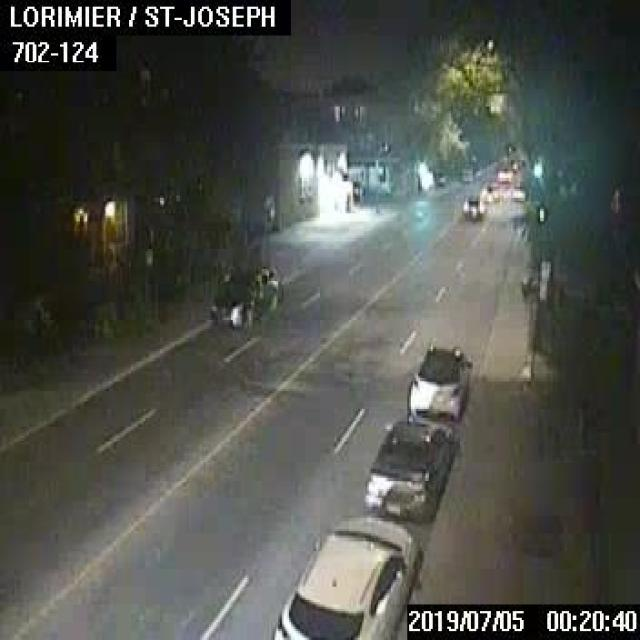vehicle: (271, 514, 420, 638), (364, 410, 457, 522), (407, 342, 470, 418), (207, 264, 282, 326), (461, 195, 482, 218), (480, 184, 498, 201), (511, 181, 526, 199), (496, 166, 510, 183)
